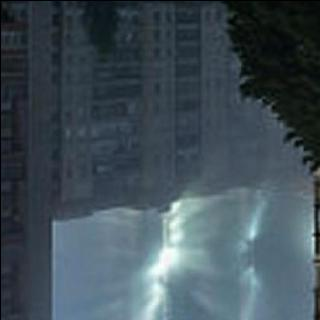Altostratus: (46, 190, 320, 320)
